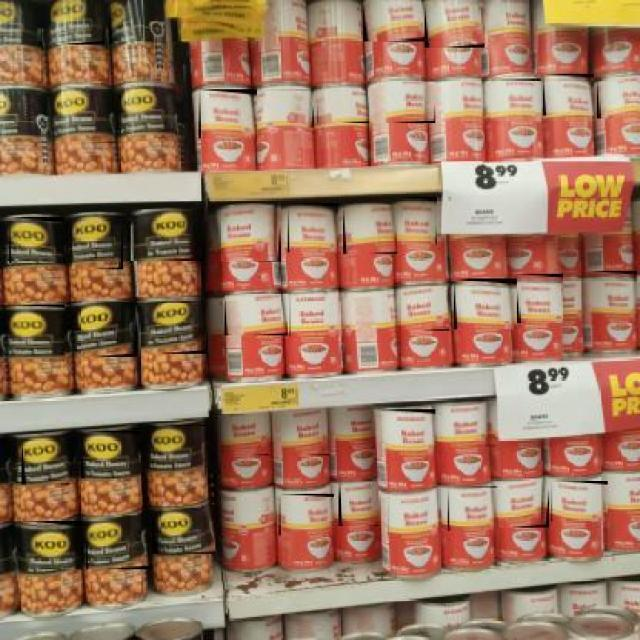Beans: (131, 209, 207, 261), (47, 89, 116, 145), (86, 515, 154, 571), (220, 205, 282, 263), (142, 303, 210, 355), (6, 305, 66, 363), (454, 278, 518, 330), (81, 302, 139, 359), (19, 520, 83, 571), (152, 508, 216, 556), (199, 89, 259, 140), (80, 431, 142, 480), (363, 2, 434, 44), (154, 425, 208, 479), (73, 215, 125, 271), (433, 77, 496, 123), (388, 488, 444, 539), (343, 205, 399, 256), (289, 290, 347, 339), (588, 271, 639, 325), (225, 295, 289, 338), (274, 409, 331, 457), (380, 410, 437, 458), (425, 5, 487, 49), (374, 82, 437, 125), (9, 217, 65, 265), (498, 479, 550, 530), (288, 203, 340, 254), (51, 0, 107, 46), (117, 89, 175, 133), (437, 406, 497, 448), (516, 274, 565, 325), (551, 480, 609, 523), (279, 494, 336, 537), (23, 437, 72, 486), (259, 88, 316, 130), (399, 286, 451, 332), (448, 487, 499, 533), (544, 74, 596, 117), (491, 79, 542, 122), (221, 415, 272, 458), (0, 0, 43, 46), (399, 197, 439, 246), (338, 482, 380, 528), (597, 77, 640, 120), (109, 0, 145, 46), (317, 96, 371, 125)
